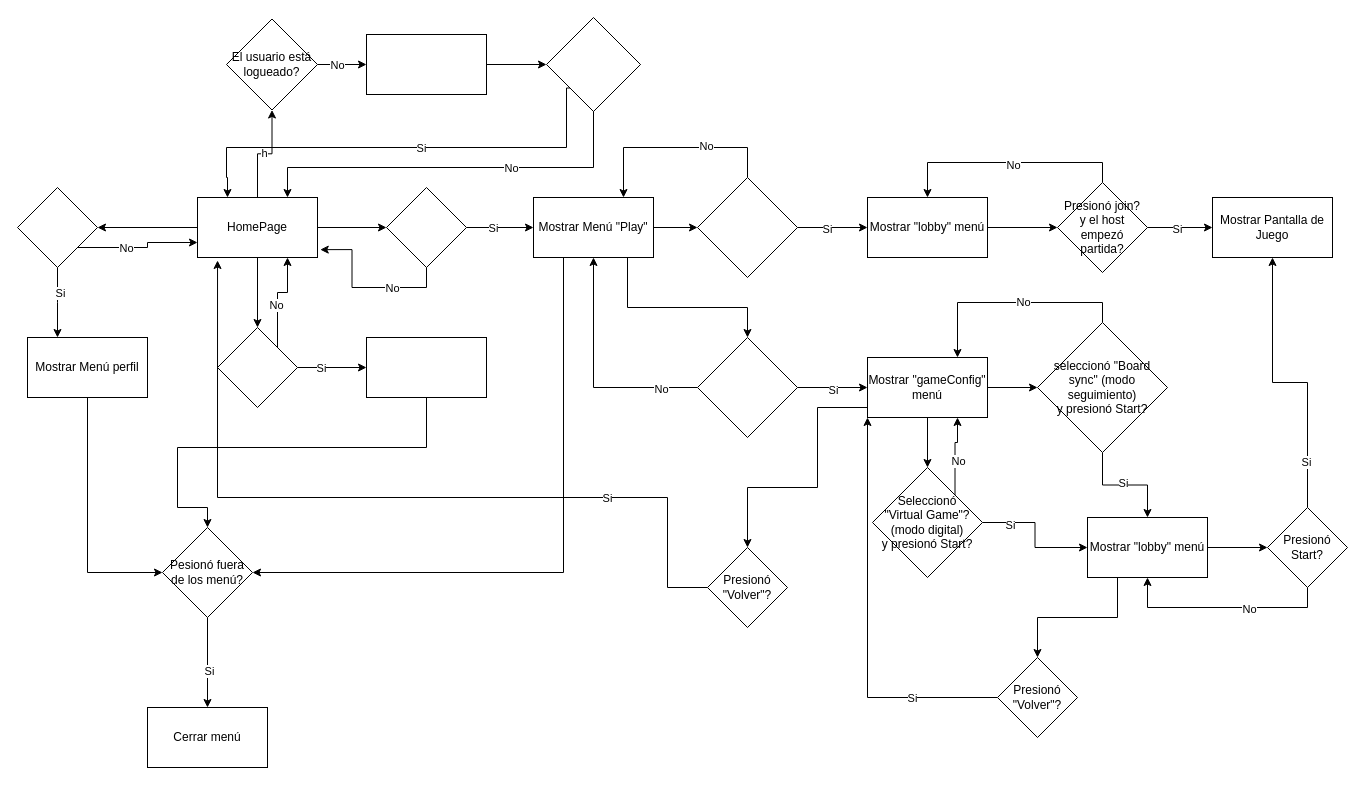
Some shapes in this 1365 by 785 pixel diagram are drawn without their labels. Here are the shapes that lost their labels. From the top down, the centre of each, then its label:
At point 426,64: "MostrarPantalla Registro/Login".
At point 593,64: "El usuario se registró/logeó?".
At point 57,227: "Presiono perfil?".
At point 426,227: "Presionó play?".
At point 747,227: "Presionó Join Game?".
At point 257,367: "Presionó ajustes?".
At point 426,367: "Mostrar menú ajustes".
At point 747,387: "Presionó Host Game?".
